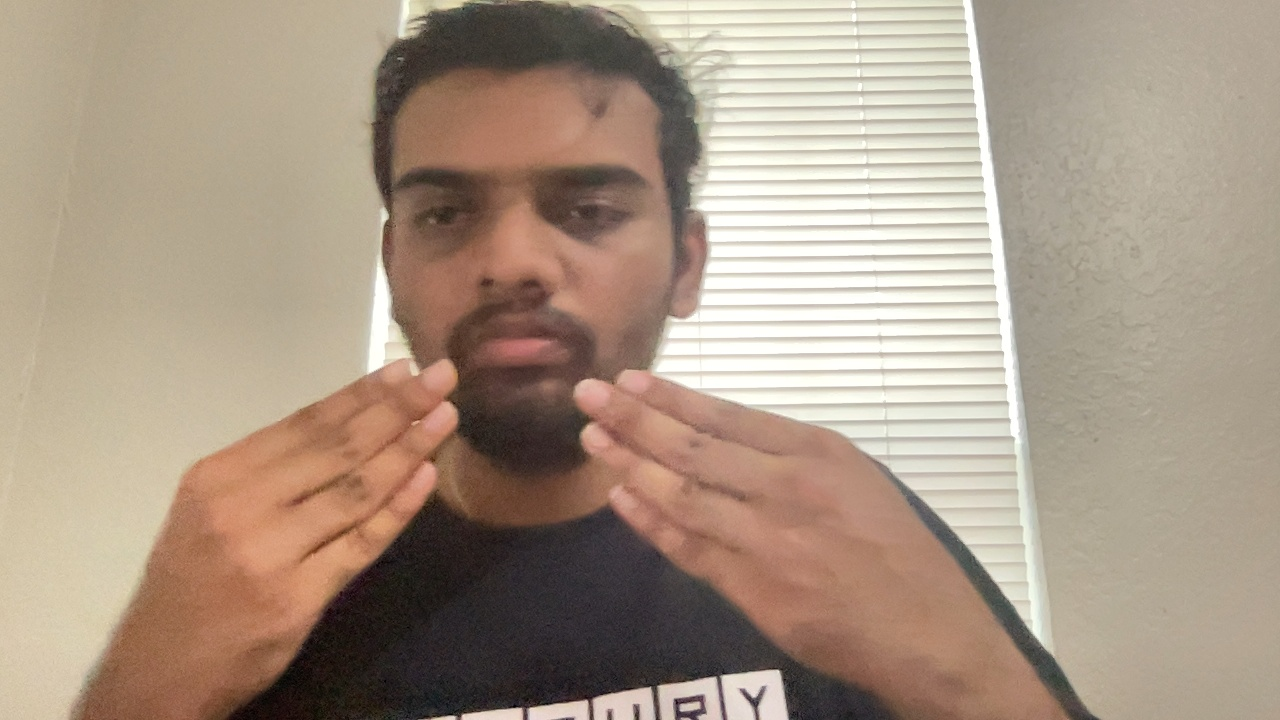thanks: (103, 346, 1043, 701)
